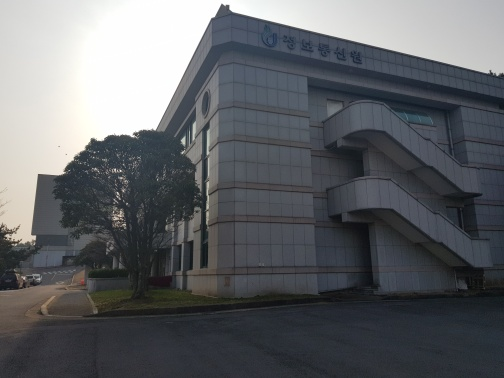Engineering College Building 4: (34, 173, 112, 263), (34, 173, 75, 265)
Information Telecommunication Center: (198, 17, 495, 292), (253, 21, 374, 69)
